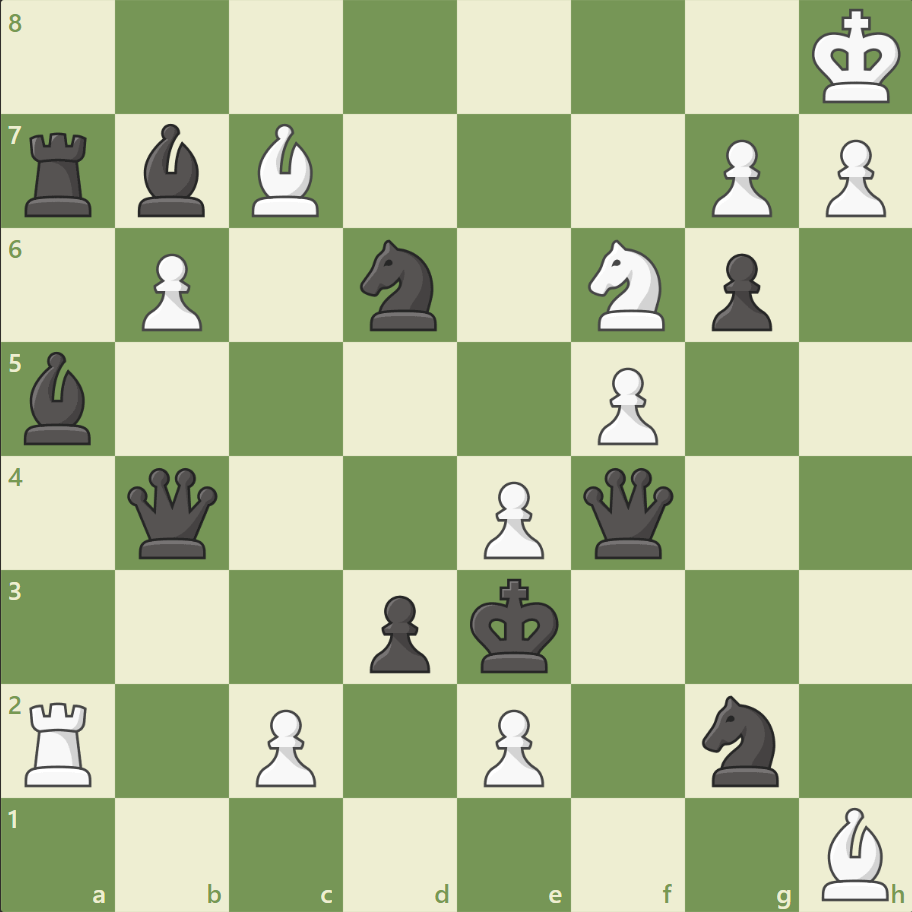B: (812, 801, 896, 904), (244, 120, 328, 222)
K: (806, 4, 906, 112)
N: (579, 234, 676, 337)
P: (701, 132, 776, 223), (133, 246, 208, 337), (474, 473, 549, 564), (247, 700, 322, 791), (474, 700, 549, 791), (815, 132, 889, 223), (588, 359, 662, 450)
R: (19, 693, 102, 790)
b: (131, 120, 215, 222), (17, 347, 101, 449)
k: (465, 571, 565, 679)
n: (351, 234, 449, 337), (692, 688, 789, 791)
p: (701, 246, 776, 337), (361, 586, 435, 677)
q: (124, 463, 223, 562), (578, 463, 677, 562)
r: (19, 125, 102, 222)
